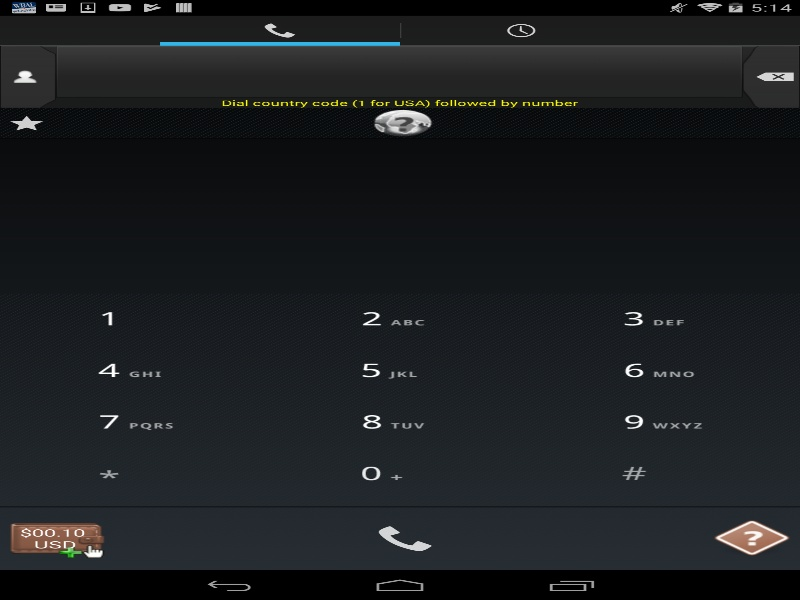Button: (105, 507, 704, 570), (530, 293, 793, 345), (530, 396, 793, 448), (530, 448, 793, 500), (6, 293, 268, 345), (268, 293, 530, 345), (6, 396, 268, 448), (268, 396, 530, 448), (6, 448, 268, 500), (268, 448, 530, 500), (530, 345, 793, 396), (6, 345, 268, 396), (268, 345, 530, 396), (9, 518, 105, 558), (704, 518, 800, 558), (742, 45, 800, 108), (0, 45, 56, 108)
Input: (56, 45, 742, 97)
